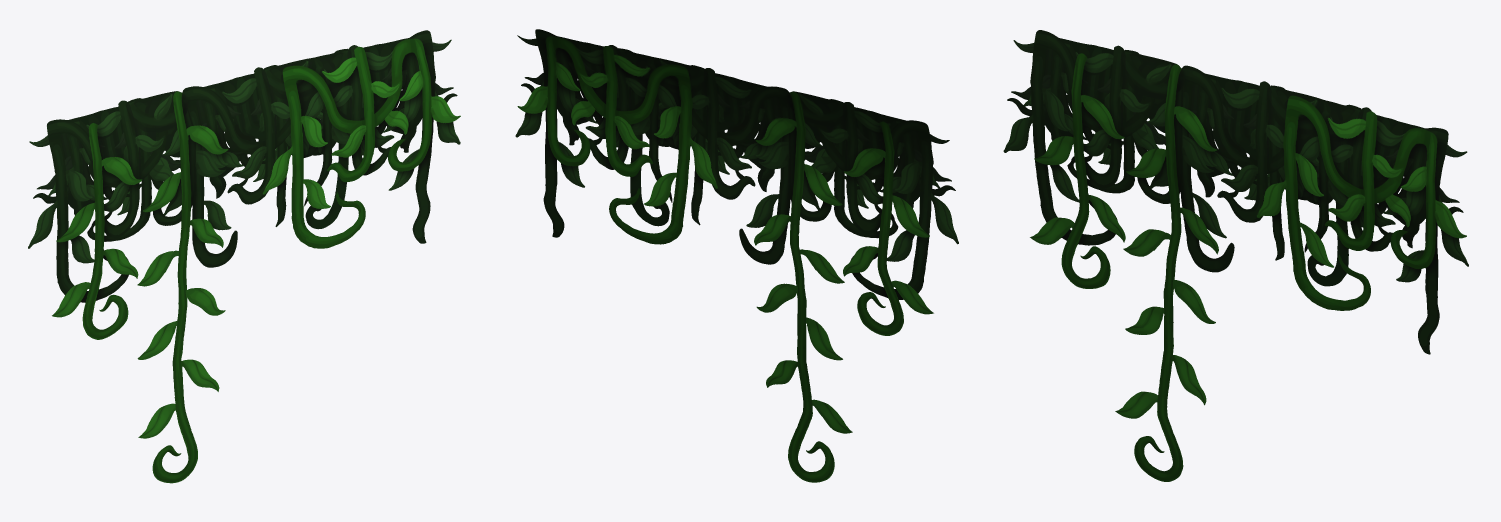
The model's file is sm_env_vineedge2.fbx.
3 views of the same model, side by side, from view 1: azimuth 30°, elevation 25°; view 2: azimuth 150°, elevation 25°; view 3: azimuth 330°, elevation 25° (orthographic). The views are drawn at different scales.
Visible parts, largest first — view 1: sm_env_vineedge2; view 2: sm_env_vineedge2; view 3: sm_env_vineedge2.
Part boxes in pixels (x1,y1,x2,y2): sm_env_vineedge2: [28, 30, 460, 483]; sm_env_vineedge2: [515, 29, 958, 482]; sm_env_vineedge2: [1003, 30, 1468, 481].
Bounding box in the file's own units: 271 × 233 × 11.2.
